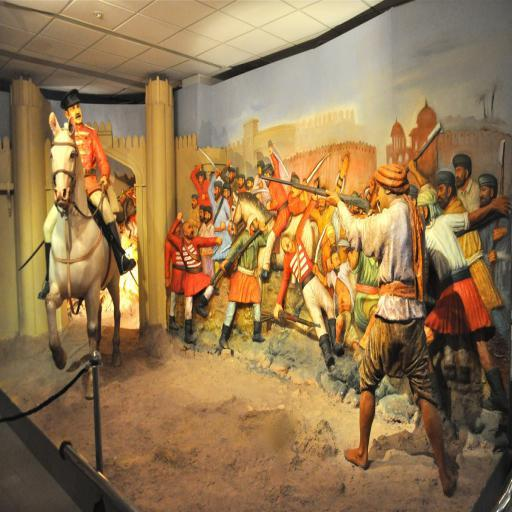Horse: (43, 112, 122, 398), (228, 190, 322, 317)
